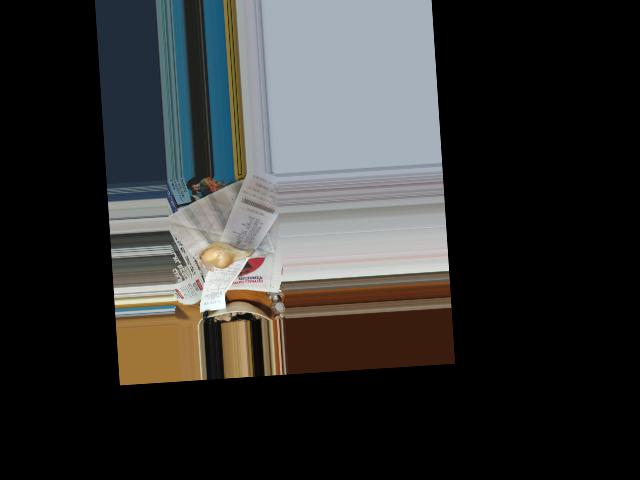onion: (198, 241, 245, 270)
